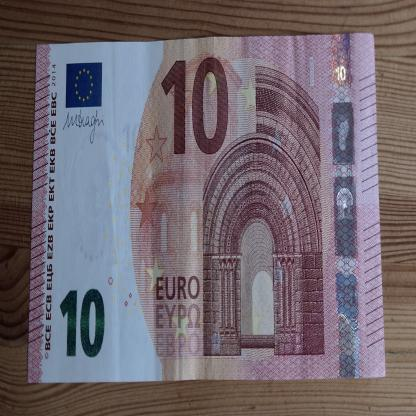euro_banknote: (24, 38, 382, 384)
